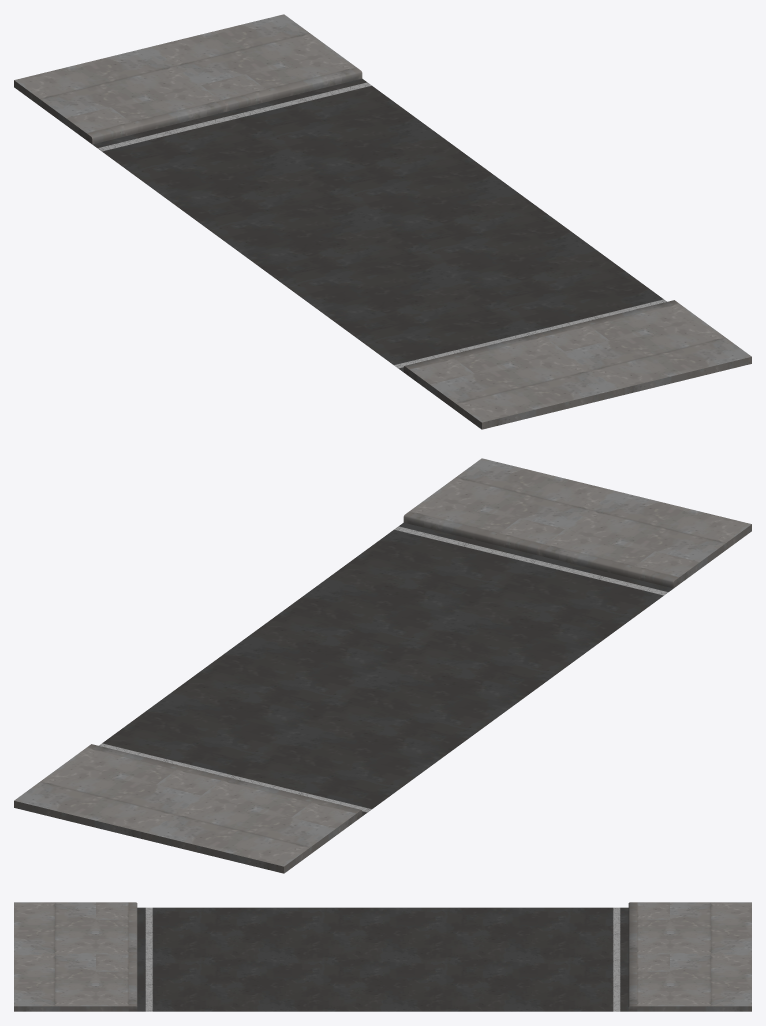
Rendered from Street_4Lane.glb.
The picture shows the model from 3 angles, top to bottom: view 1: azimuth 30°, elevation 25°; view 2: azimuth 150°, elevation 25°; view 3: azimuth 270°, elevation 25°; orthographic projection. The views are drawn at different scales.
Visible parts, largest first — view 1: Street_4Lane; view 2: Street_4Lane; view 3: Street_4Lane.
Boxes of the visible parts, left/top/right/bottom form: Street_4Lane: left=14, top=14, right=751, bottom=429; Street_4Lane: left=14, top=458, right=751, bottom=873; Street_4Lane: left=14, top=902, right=751, bottom=1011.
Bounding box in the file's own units: 6 × 0.15 × 18.
Materials: 3 (3 with a texture image).
